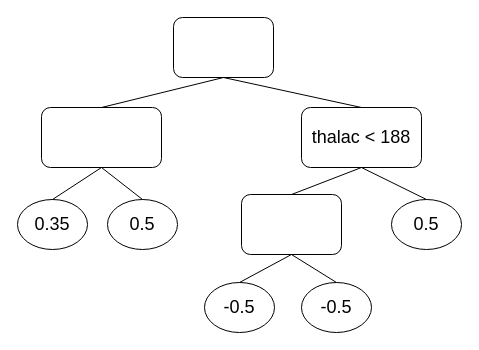
Some shapes in this 479 by 350 pixel diagram are drawn without their labels. The shapes that lost their labels are listed below. From the top down, each one's centre as x and y in pixels, then its label:
point (223, 47): cp = 3
point (101, 137): thalac < 170
point (291, 224): cp = 0
